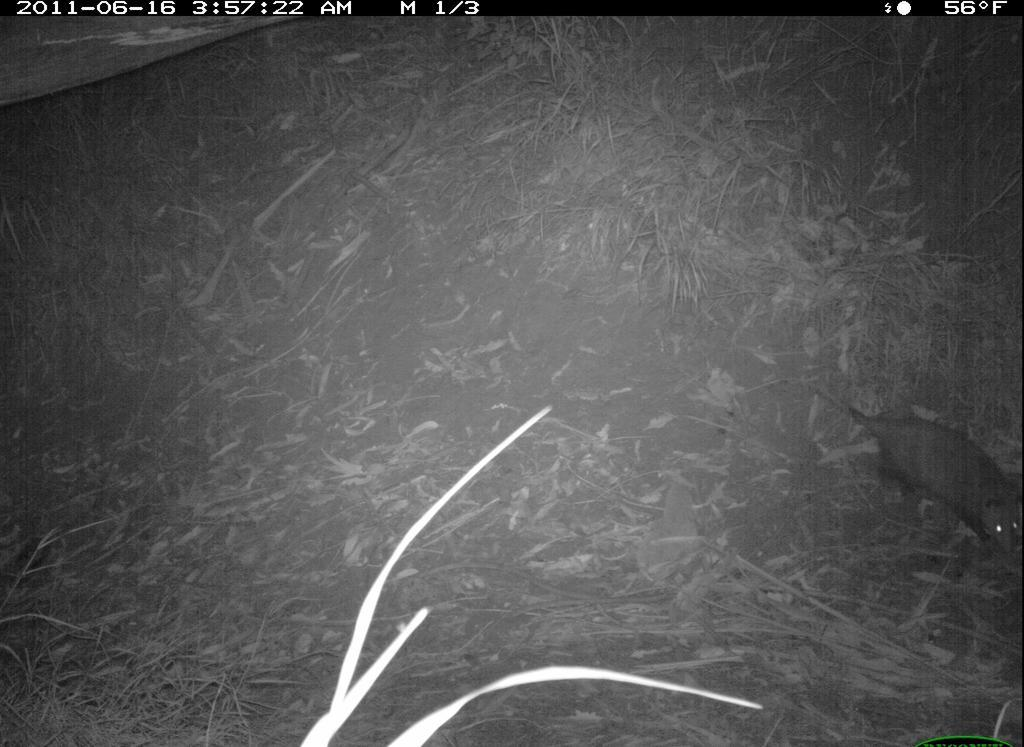opossum: (803, 381, 1023, 569)
